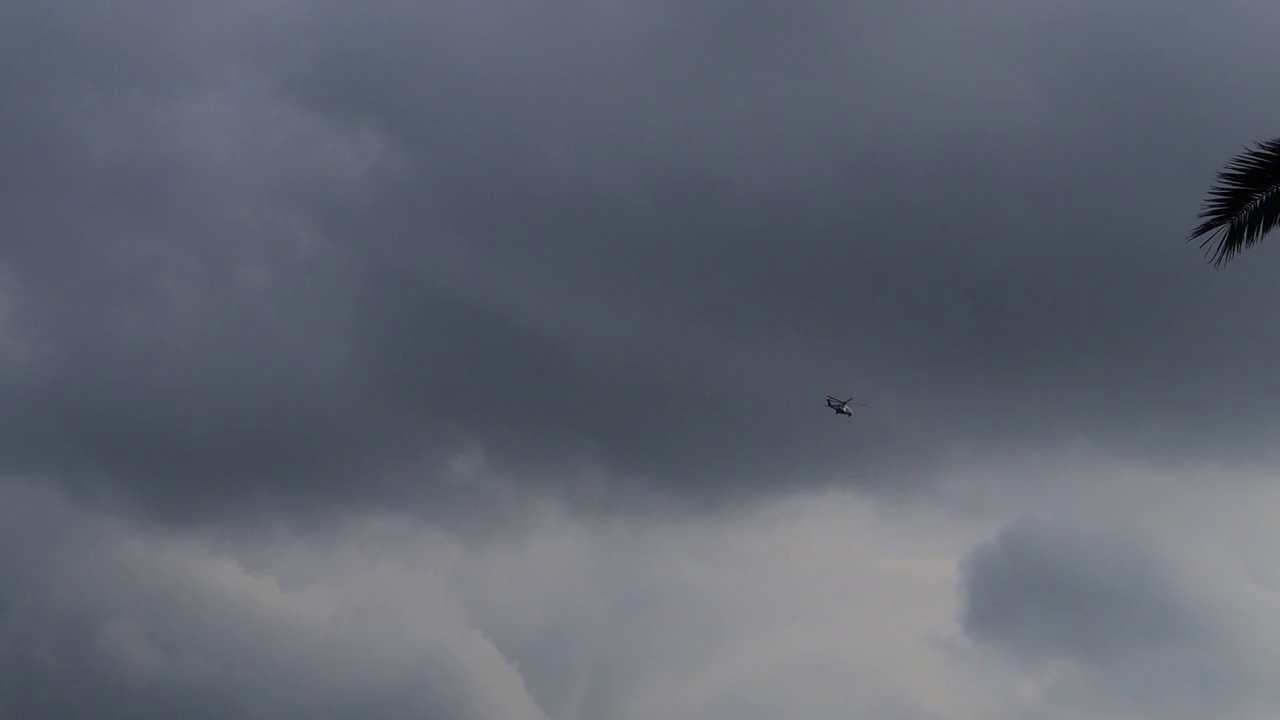heli: (825, 392, 865, 417)
